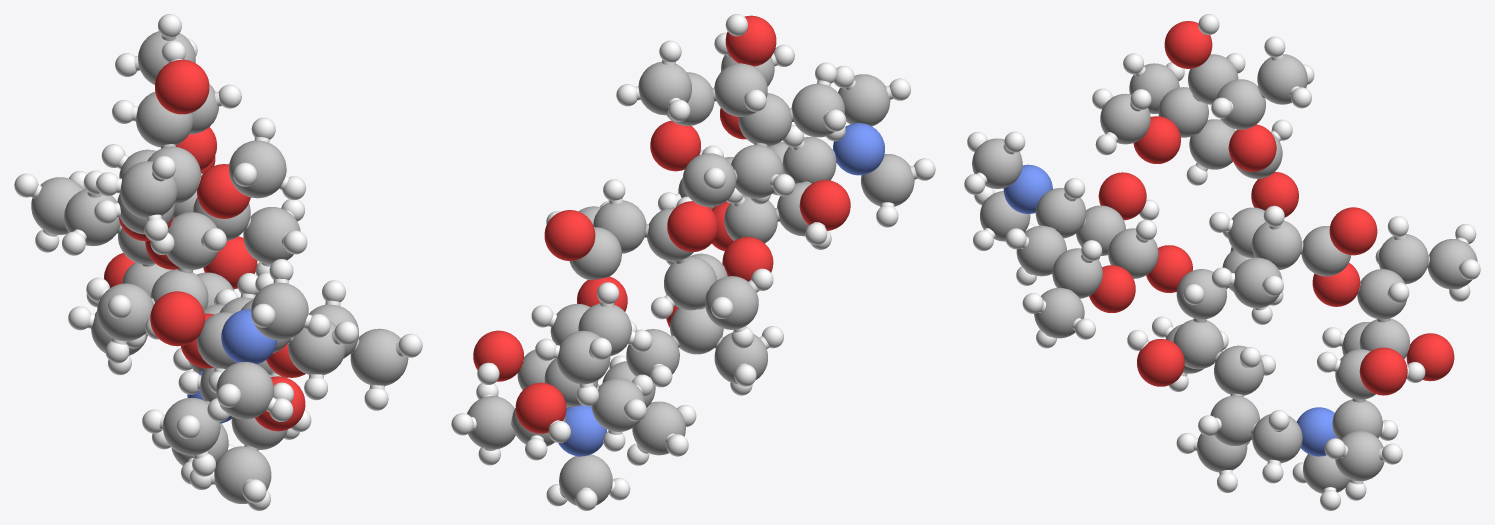
File: azitromicina.glb
3 renders of one model, left to right at view 1: azimuth 30°, elevation 25°; view 2: azimuth 150°, elevation 25°; view 3: azimuth 270°, elevation 25°, orthographic. The views are drawn at different scales.
Parts seen in each view (by area): view 1: Carbon_ball_48, Oxygen_ball_14, Oxygen_ball_22, Carbon_ball_66, Carbon_ball_24, Carbon_ball_32, Carbon_ball_64, Carbon_ball_52, Carbon_ball_50, Carbon_ball_34, Carbon_ball_36, Carbon_ball_14 (+42 smaller); view 2: Nitrogen_ball, Carbon_ball_12, Oxygen_ball, Carbon_ball_54, Carbon_ball_68, Oxygen_ball_16, Carbon_ball_74, Carbon_ball_52, Oxygen_ball_8, Oxygen_ball_14, Oxygen_ball_18, Carbon_ball_66 (+30 smaller); view 3: Carbon_ball_8, Oxygen_ball, Oxygen_ball_6, Carbon_ball_68, Oxygen_ball_4, Carbon_ball_50, Carbon_ball_48, Carbon_ball_4, Carbon_ball_74, Oxygen_ball_18, Carbon_ball_28, Carbon_ball_64 (+35 smaller).
Boxes of the visible parts, x1,y1,x2,y2 form: Carbon_ball_48: (350, 328, 408, 385); Oxygen_ball_14: (150, 291, 204, 346); Oxygen_ball_22: (155, 59, 209, 114); Carbon_ball_66: (120, 161, 177, 218); Carbon_ball_24: (214, 446, 271, 503); Carbon_ball_32: (243, 207, 300, 264); Carbon_ball_64: (229, 140, 286, 198); Carbon_ball_52: (216, 362, 273, 419); Carbon_ball_50: (251, 282, 308, 340); Carbon_ball_34: (97, 283, 153, 341); Carbon_ball_36: (163, 397, 220, 455); Carbon_ball_14: (166, 212, 218, 269); Nitrogen_ball: (833, 123, 884, 175); Carbon_ball_12: (664, 256, 717, 310); Oxygen_ball: (544, 210, 595, 260); Carbon_ball_54: (731, 145, 783, 198); Carbon_ball_68: (638, 61, 691, 115); Oxygen_ball_16: (667, 201, 717, 251); Carbon_ball_74: (467, 396, 515, 449); Carbon_ball_52: (861, 154, 914, 206); Oxygen_ball_8: (515, 382, 566, 433); Oxygen_ball_14: (799, 180, 850, 230); Oxygen_ball_18: (650, 120, 700, 171); Carbon_ball_66: (791, 83, 844, 137); Carbon_ball_8: (1173, 319, 1223, 369); Oxygen_ball: (1329, 207, 1377, 255); Oxygen_ball_6: (1359, 347, 1407, 395); Carbon_ball_68: (1257, 54, 1307, 104); Oxygen_ball_4: (1137, 339, 1184, 386); Carbon_ball_50: (972, 138, 1022, 188); Carbon_ball_48: (1034, 288, 1084, 338); Carbon_ball_4: (1210, 395, 1259, 445); Carbon_ball_74: (1335, 430, 1384, 481); Oxygen_ball_18: (1228, 124, 1276, 171); Carbon_ball_28: (1378, 234, 1428, 284); Carbon_ball_64: (1100, 93, 1150, 144).
Size of the model in its own units: 9.3 by 14.86 by 15.72.
